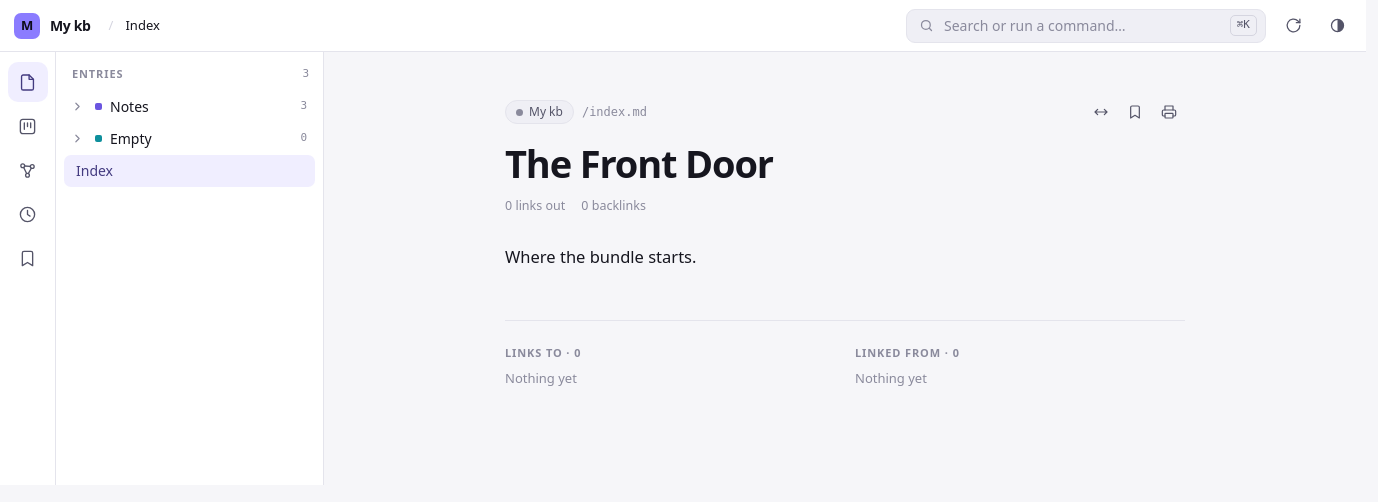
Test: one board is opened without spending width on a list of one
Step 1. Click the button named "Boards" → (28, 126), box left=8, top=106, right=48, bottom=146
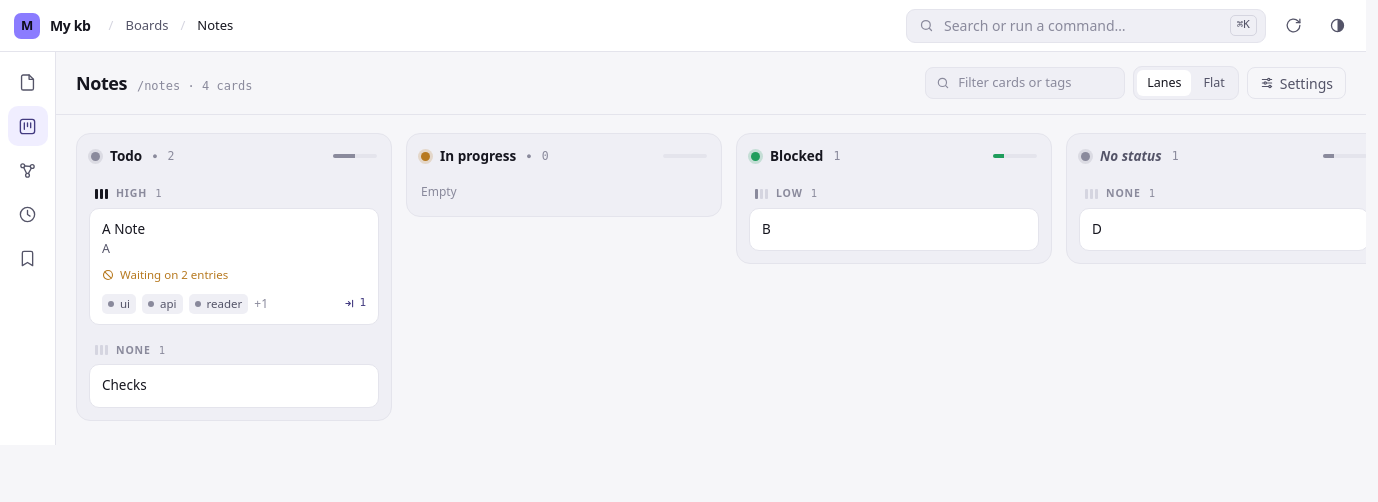
Result: the element named "todo" is shown at left=76, top=133, right=392, bottom=421
Step 2. Click the button named "Boards" → (28, 126), box left=8, top=106, right=48, bottom=146
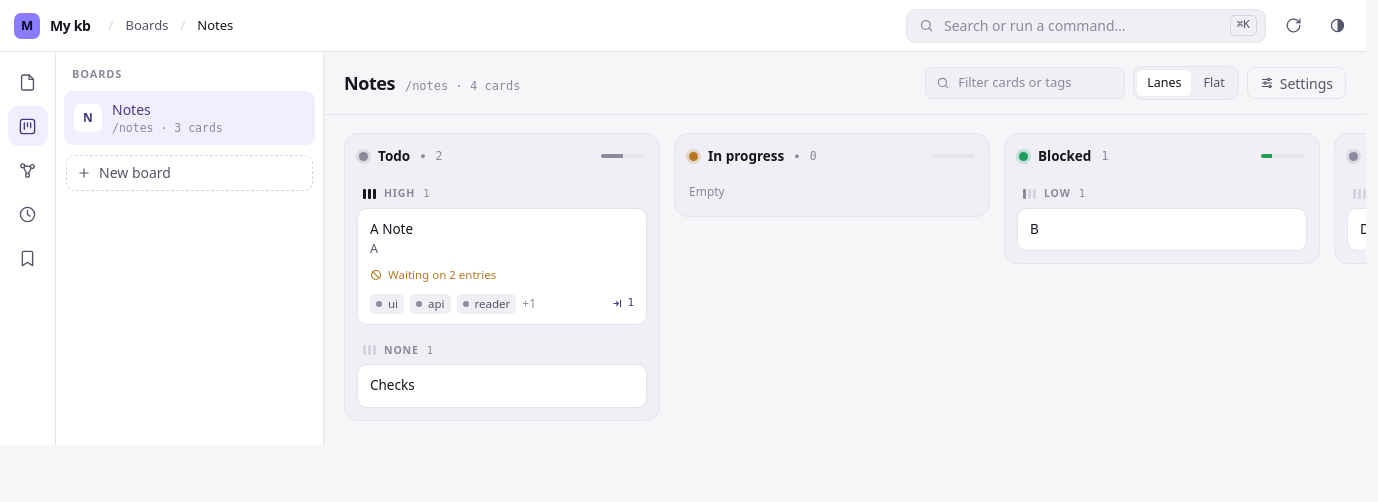
Result: the link "N Notes /notes · 3 cards" is shown at left=64, top=90, right=315, bottom=145
